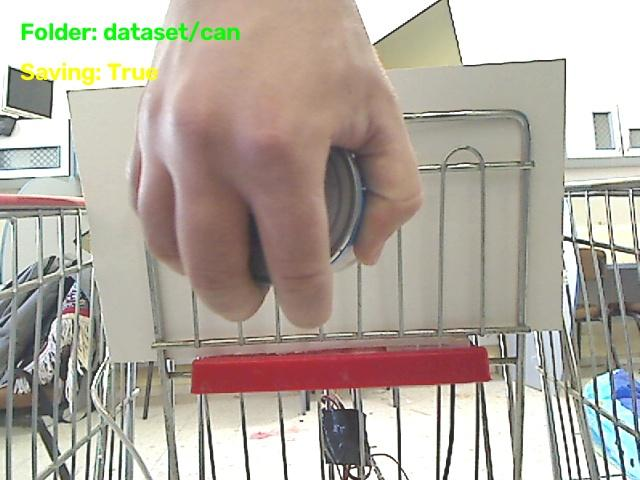can: (325, 147, 363, 269)
